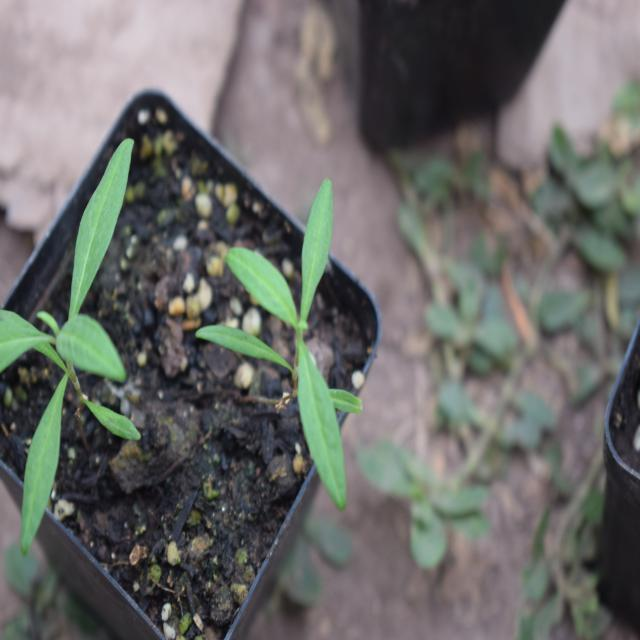white_smart_weed: (0, 145, 194, 511), (207, 180, 387, 512)
